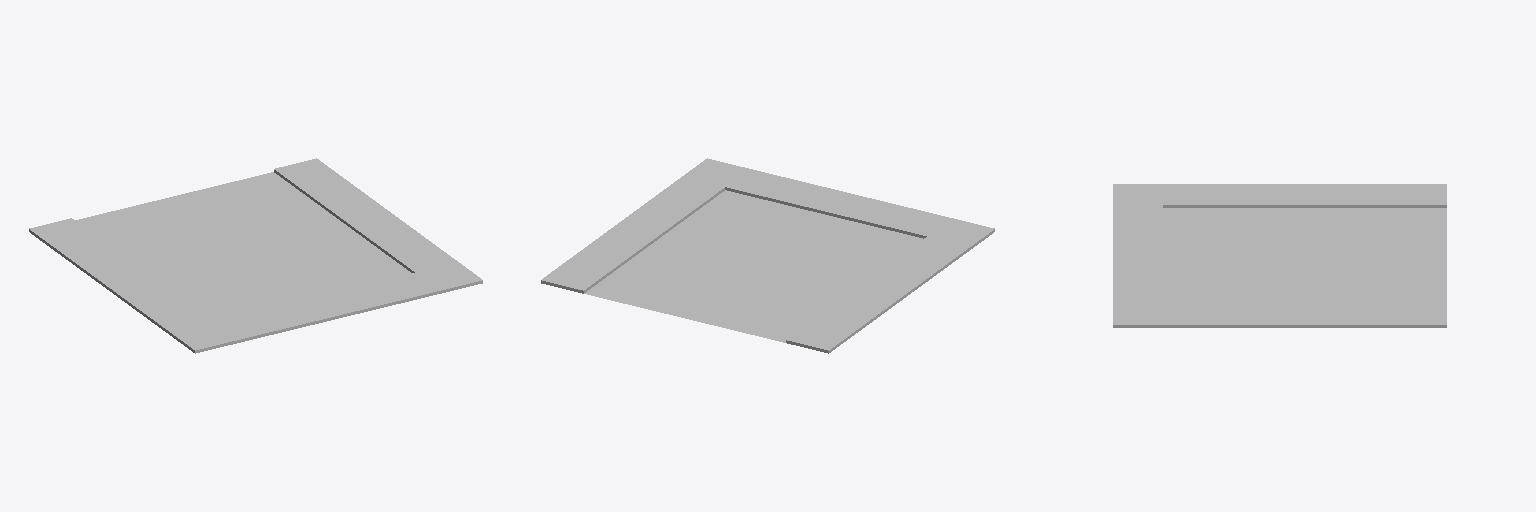
The model's file is Road Lane_04.obj.
The picture shows the model from 3 angles: view 1: azimuth 30°, elevation 25°; view 2: azimuth 150°, elevation 25°; view 3: azimuth 270°, elevation 25°; orthographic projection.
Visible parts, largest first — view 1: Road_Lane_04; view 2: Road_Lane_04; view 3: Road_Lane_04.
Boxes of the visible parts, x1=… form: Road_Lane_04: x1=29, y1=158, x2=482, y2=353; Road_Lane_04: x1=541, y1=158, x2=994, y2=353; Road_Lane_04: x1=1113, y1=184, x2=1446, y2=327.
Size of the model in its own units: 787 by 7.87 by 787.